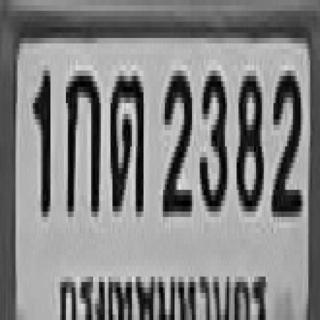A01: (64, 65, 99, 212)
A21: (108, 70, 142, 212)
N01: (31, 65, 48, 212)
N02: (270, 65, 300, 212), (161, 65, 190, 212)
N03: (198, 65, 225, 206)
N08: (235, 70, 262, 206)
